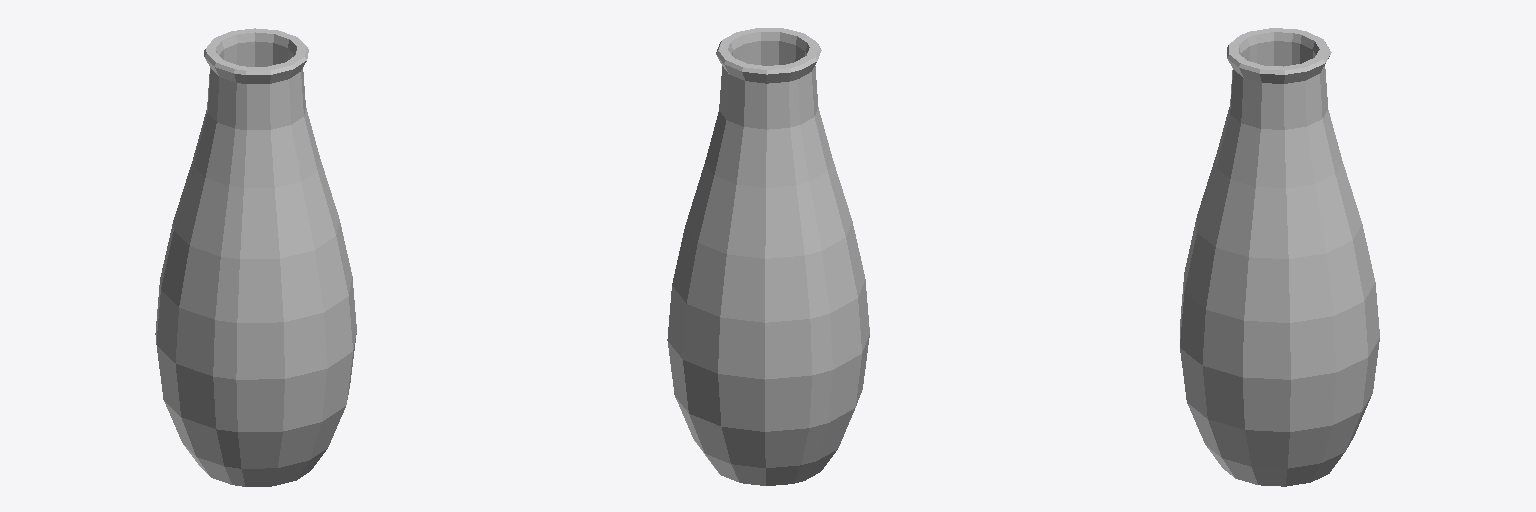
Rendered from LowPoly_Vase2.obj.
The picture shows the model from 3 angles: view 1: azimuth 30°, elevation 25°; view 2: azimuth 150°, elevation 25°; view 3: azimuth 270°, elevation 25°; orthographic projection.
Visible parts, largest first — view 1: Vase2; view 2: Vase2; view 3: Vase2.
Boxes of the visible parts, <box> form: Vase2: <box>155,28,356,486</box>; Vase2: <box>667,28,869,485</box>; Vase2: <box>1180,28,1379,486</box>.
Bounding box in the file's own units: 11.19 × 25.31 × 11.11.